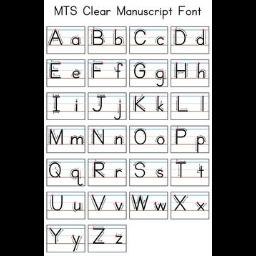a: (44, 24, 68, 48)
b: (88, 24, 106, 48)
c: (132, 26, 148, 52)
d: (172, 27, 192, 49)
e: (46, 58, 68, 82)
f: (90, 62, 108, 82)
g: (130, 60, 148, 82)
h: (172, 58, 190, 80)
i: (50, 92, 64, 116)
j: (90, 90, 110, 118)
k: (132, 90, 148, 116)
l: (173, 93, 191, 115)
m: (46, 124, 66, 150)
n: (88, 126, 108, 146)
o: (132, 128, 152, 150)
p: (168, 122, 190, 150)
q: (45, 155, 67, 181)
r: (89, 161, 109, 183)
s: (131, 158, 151, 182)
t: (171, 161, 189, 183)
u: (52, 193, 66, 213)
v: (92, 194, 106, 212)
w: (130, 190, 150, 212)
x: (170, 194, 190, 212)
y: (47, 224, 67, 248)
z: (86, 224, 108, 248)
